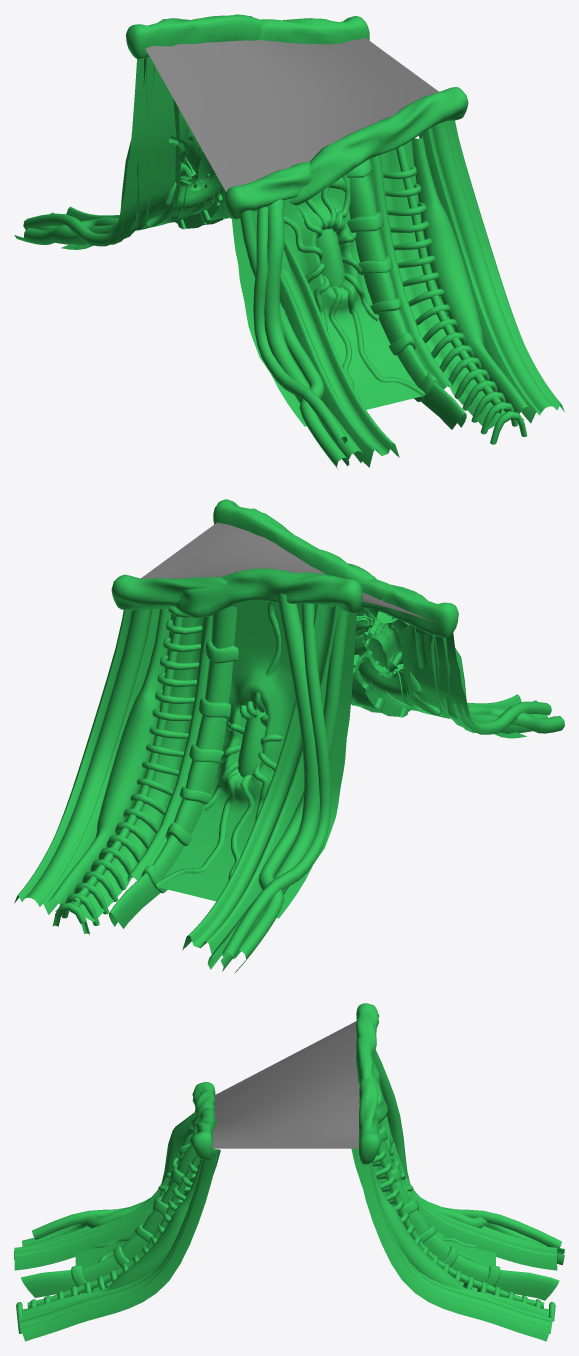
File: Track_alien_08.fbx
The picture shows the model from 3 angles, top to bottom: view 1: azimuth 30°, elevation 25°; view 2: azimuth 150°, elevation 25°; view 3: azimuth 270°, elevation 25°; orthographic projection. The views are drawn at different scales.
Parts seen in each view (by area): view 1: Side_Rock_008, Road_008; view 2: Side_Rock_008, Road_008; view 3: Side_Rock_008, Road_008.
Boxes of the visible parts, x1=… form: Side_Rock_008: x1=14, y1=14, x2=564, y2=469; Road_008: x1=145, y1=37, x2=438, y2=191; Side_Rock_008: x1=14, y1=499, x2=564, y2=972; Road_008: x1=141, y1=522, x2=437, y2=622; Side_Rock_008: x1=14, y1=1003, x2=564, y2=1341; Road_008: x1=212, y1=1021, x2=359, y2=1148.
Size of what is drawn, in the model's own units: 3398 by 7700 by 3938.
